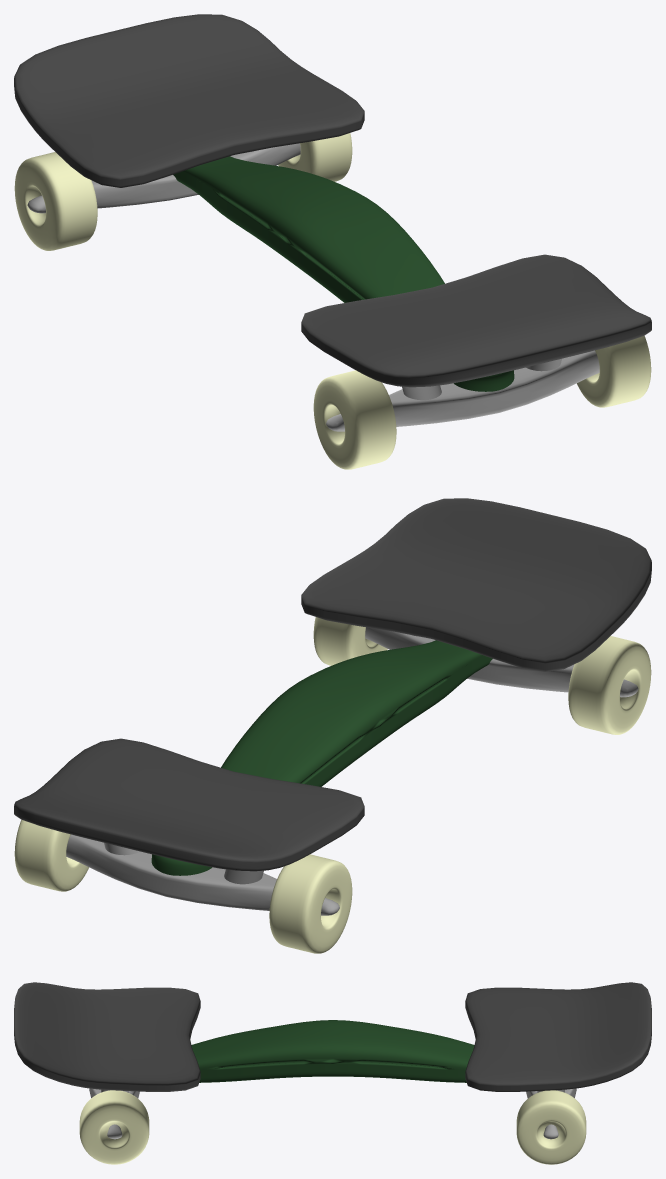
Rendered from snakeboard.obj.
The picture shows the model from 3 angles, top to bottom: view 1: azimuth 30°, elevation 25°; view 2: azimuth 150°, elevation 25°; view 3: azimuth 270°, elevation 25°; orthographic projection. The views are drawn at different scales.
Parts seen in each view (by area): view 1: front_platform, back_platform, body; view 2: back_platform, front_platform, body; view 3: front_platform, back_platform, body.
Part boxes in pixels (<box>): front_platform: <box>14,14,364,250</box>; back_platform: <box>301,254,651,469</box>; body: <box>173,156,444,302</box>; back_platform: <box>301,498,651,734</box>; front_platform: <box>14,738,364,953</box>; body: <box>221,640,492,786</box>; front_platform: <box>465,982,651,1164</box>; back_platform: <box>14,982,200,1164</box>; body: <box>191,1020,474,1082</box>.
Size of the model in its own units: 1.19 by 0.489 by 2.91.
